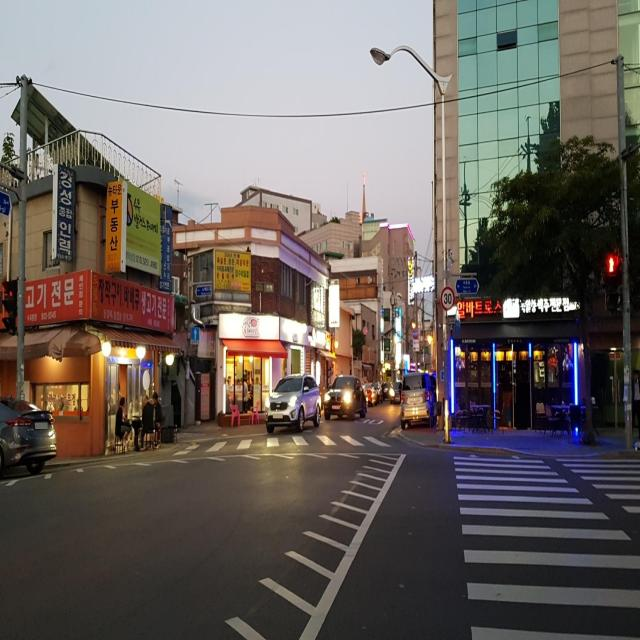빨간불: (603, 250, 622, 314)
횡단보도: (453, 454, 640, 639), (175, 431, 393, 451)
